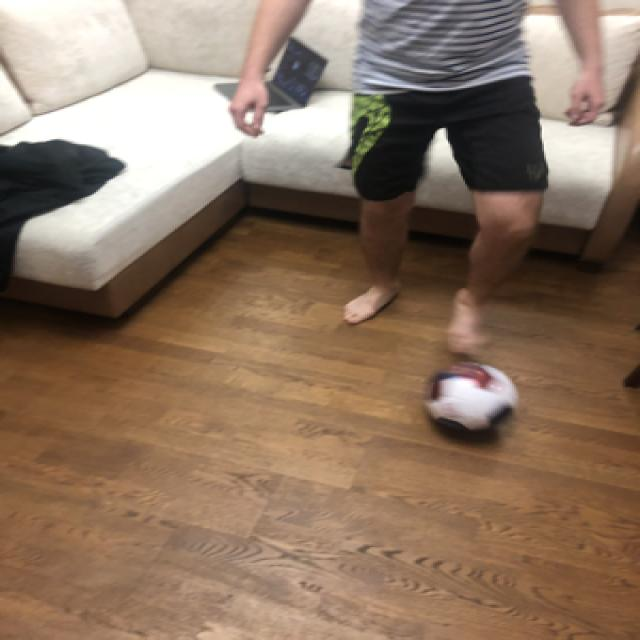soccer_ball: (423, 358, 514, 432)
